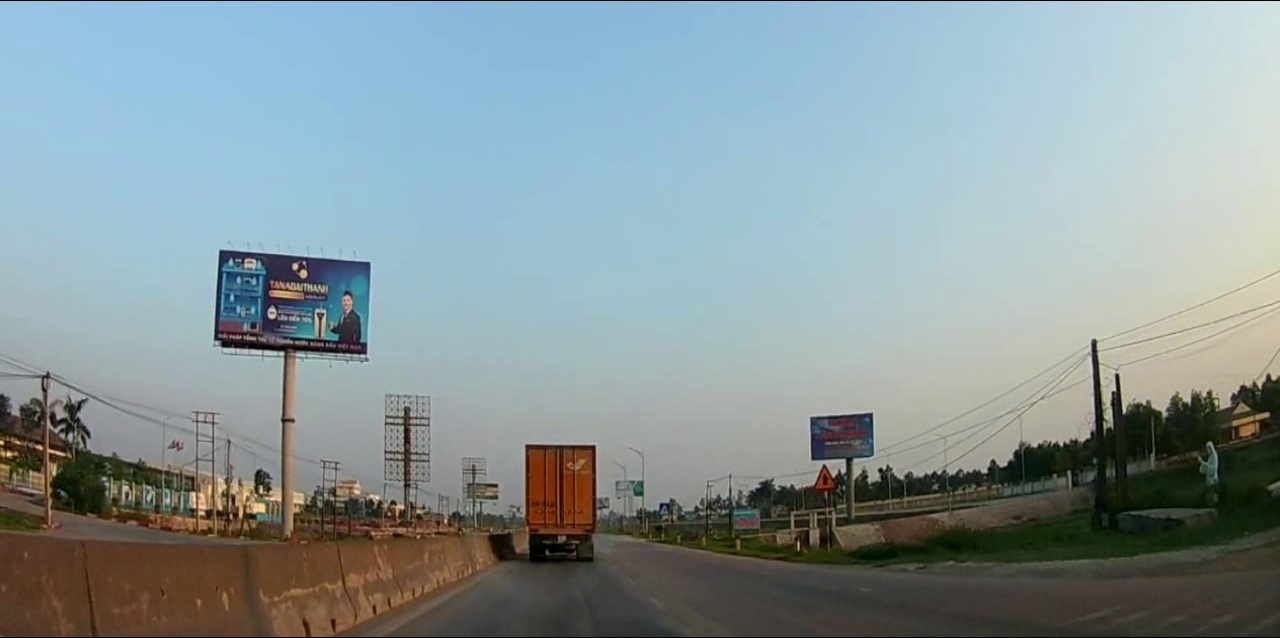Giao nhau voi duong khong uu tien: (812, 457, 836, 492)
